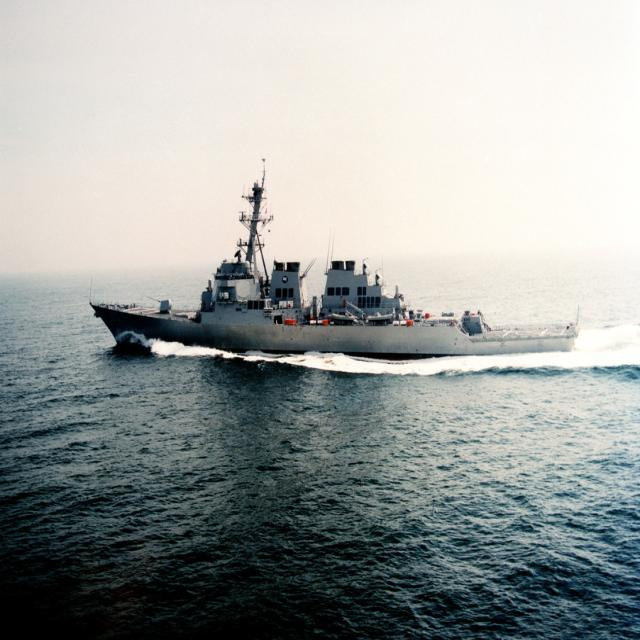navalvessels: (89, 146, 591, 366)
